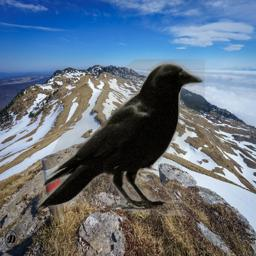Crow: (34, 59, 205, 216)
